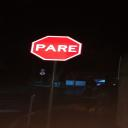Pare: (24, 33, 91, 64)
